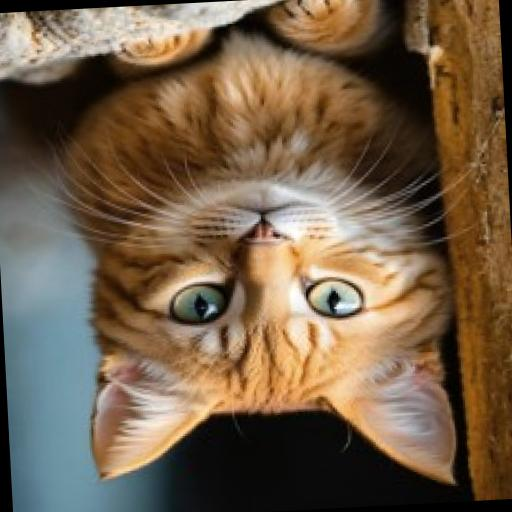cat: (46, 0, 481, 510)
